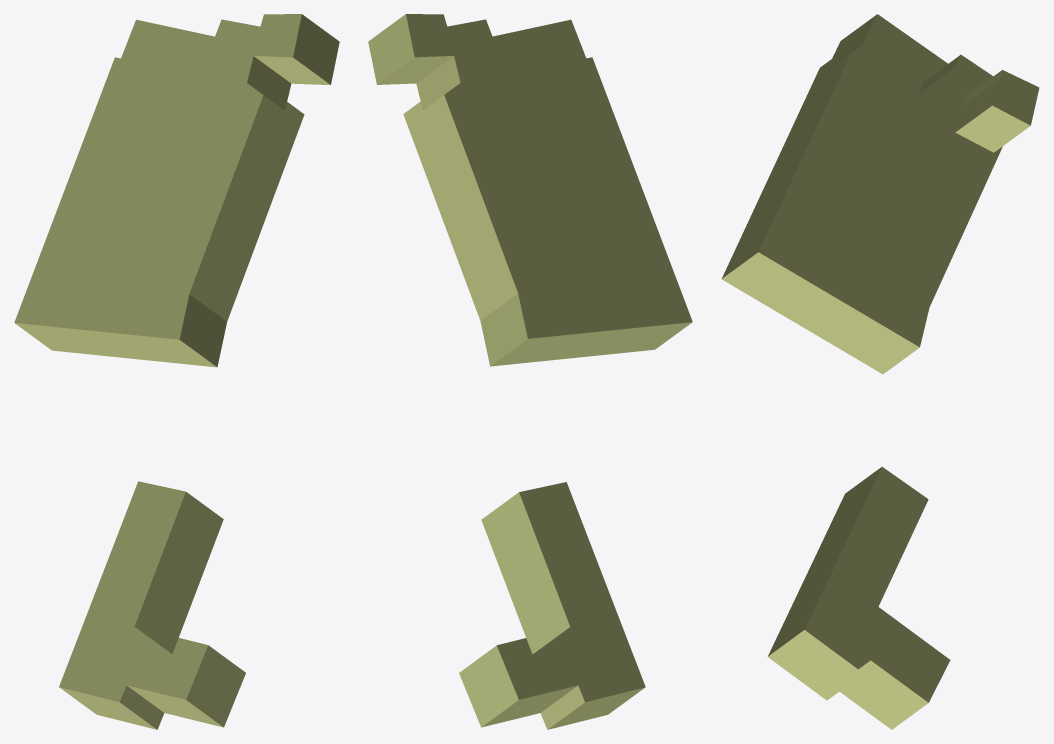
The picture shows the model from 3 angles, left to right: view 1: azimuth 30°, elevation 25°; view 2: azimuth 150°, elevation 25°; view 3: azimuth 330°, elevation 25°; orthographic projection. The views are drawn at different scales.
Visible parts, largest first — view 1: 0_1_0_0_0_1_1_3; view 2: 0_1_0_0_0_1_1_3; view 3: 0_1_0_0_0_1_1_3.
Boxes of the visible parts, x1,y1,x2,y2 form: 0_1_0_0_0_1_1_3: (14, 14, 339, 729); 0_1_0_0_0_1_1_3: (368, 14, 692, 729); 0_1_0_0_0_1_1_3: (721, 14, 1039, 729).
Size of the model in its own units: 26.32 by 60.64 by 6.2.
